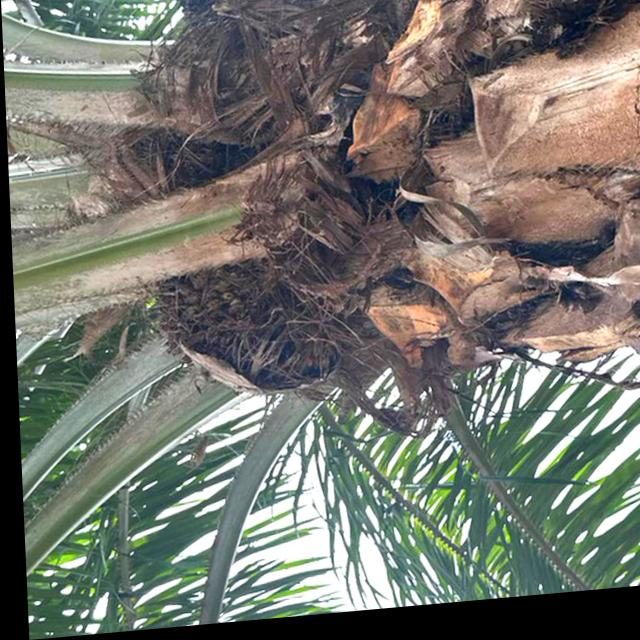almost: (152, 260, 329, 409)
